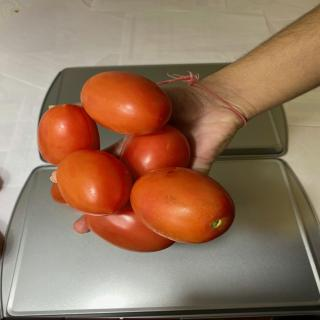Chilli: (37, 70, 236, 252)
Tomato: (130, 166, 236, 244), (80, 71, 173, 136), (56, 149, 133, 216), (84, 202, 175, 253), (119, 124, 191, 179), (37, 104, 100, 166)
